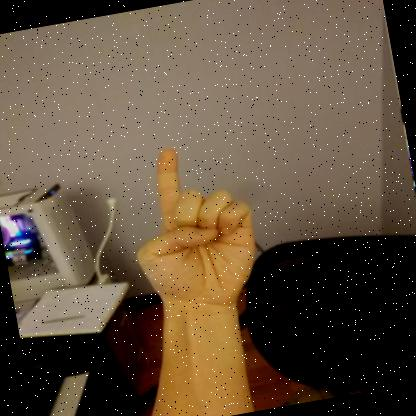D: (136, 148, 255, 323)
